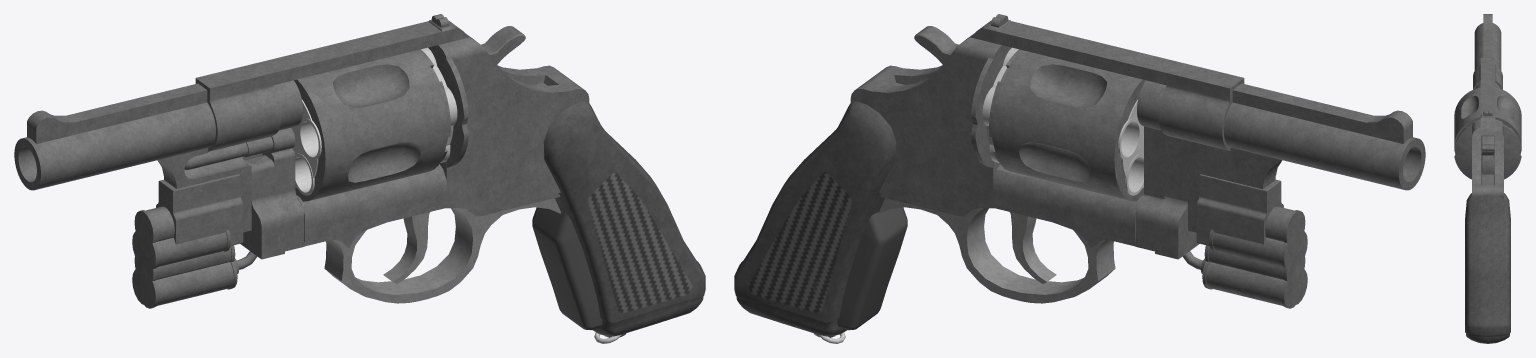
Rendered from WPN_OTs_20_Gnom.fbx.
The picture shows the model from 3 angles, left to right: view 1: azimuth 30°, elevation 25°; view 2: azimuth 150°, elevation 25°; view 3: azimuth 270°, elevation 25°; orthographic projection. The views are drawn at different scales.
Parts seen in each view (by area): view 1: gyn_r1, silinder01; view 2: gyn_r1, silinder01; view 3: gyn_r1, silinder01.
Part boxes in pixels (x1,y1,x2,y2): gyn_r1: [14, 14, 705, 343]; silinder01: [184, 47, 457, 251]; gyn_r1: [734, 14, 1425, 343]; silinder01: [982, 47, 1163, 251]; gyn_r1: [1454, 14, 1521, 343]; silinder01: [1454, 87, 1521, 154].
Size of the model in its own units: 7.47 by 3.9 by 1.3.
